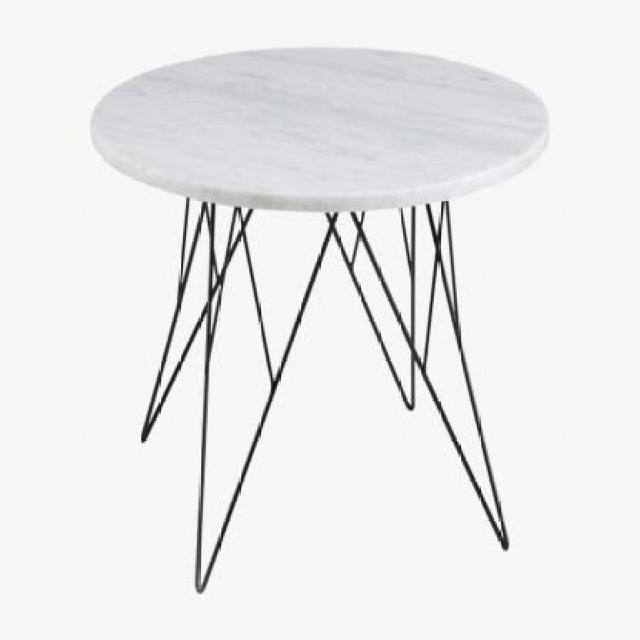table: (87, 43, 555, 595)
